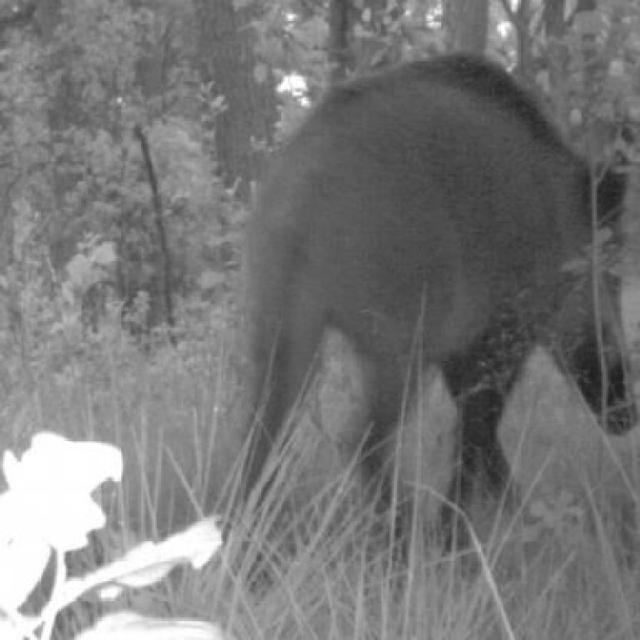pig: (254, 24, 640, 544)
